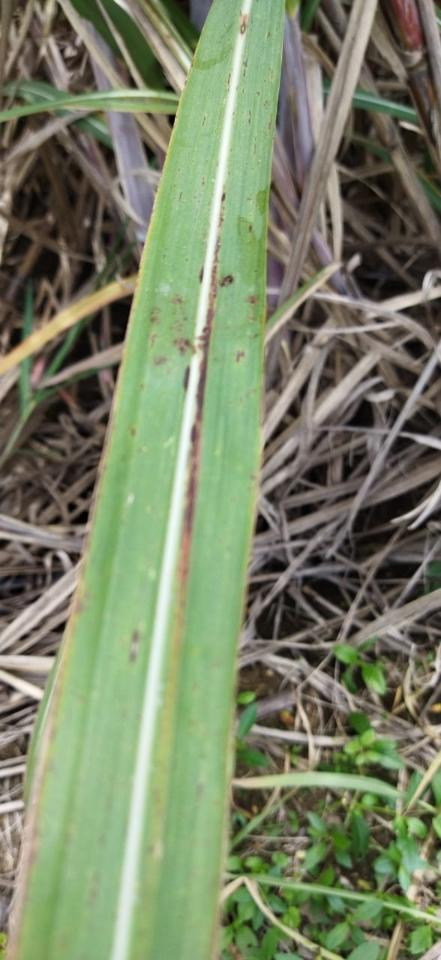RedRot: (240, 13, 248, 36)
Rust: (172, 184, 236, 625), (148, 304, 169, 367), (123, 617, 146, 668), (166, 293, 191, 336), (169, 336, 198, 359), (244, 292, 261, 325), (180, 364, 192, 395), (234, 347, 247, 365), (198, 265, 205, 286)
